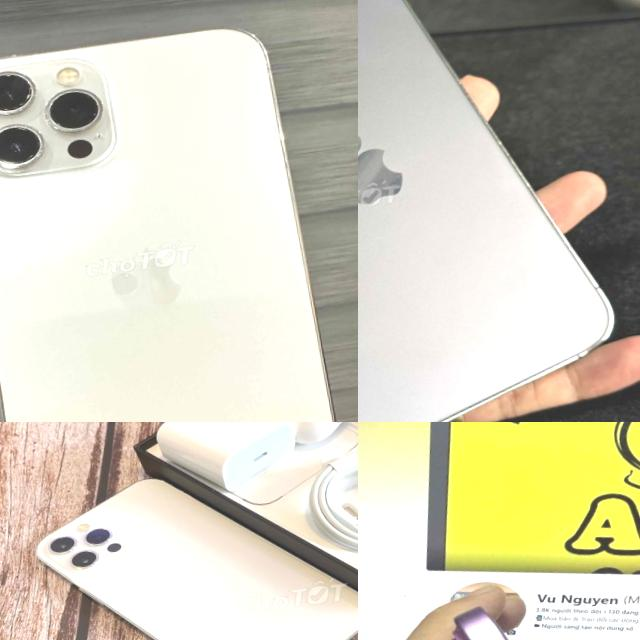gen_12_13: (0, 13, 347, 422), (25, 449, 358, 640)
gen_14: (358, 0, 637, 422)
gen_16: (440, 575, 640, 640)
